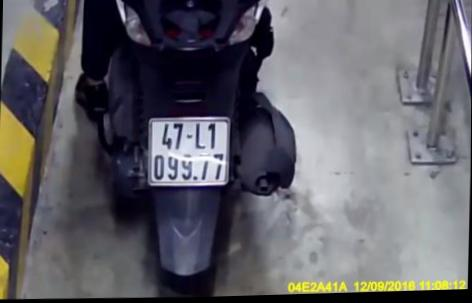LP: (148, 116, 230, 189)
